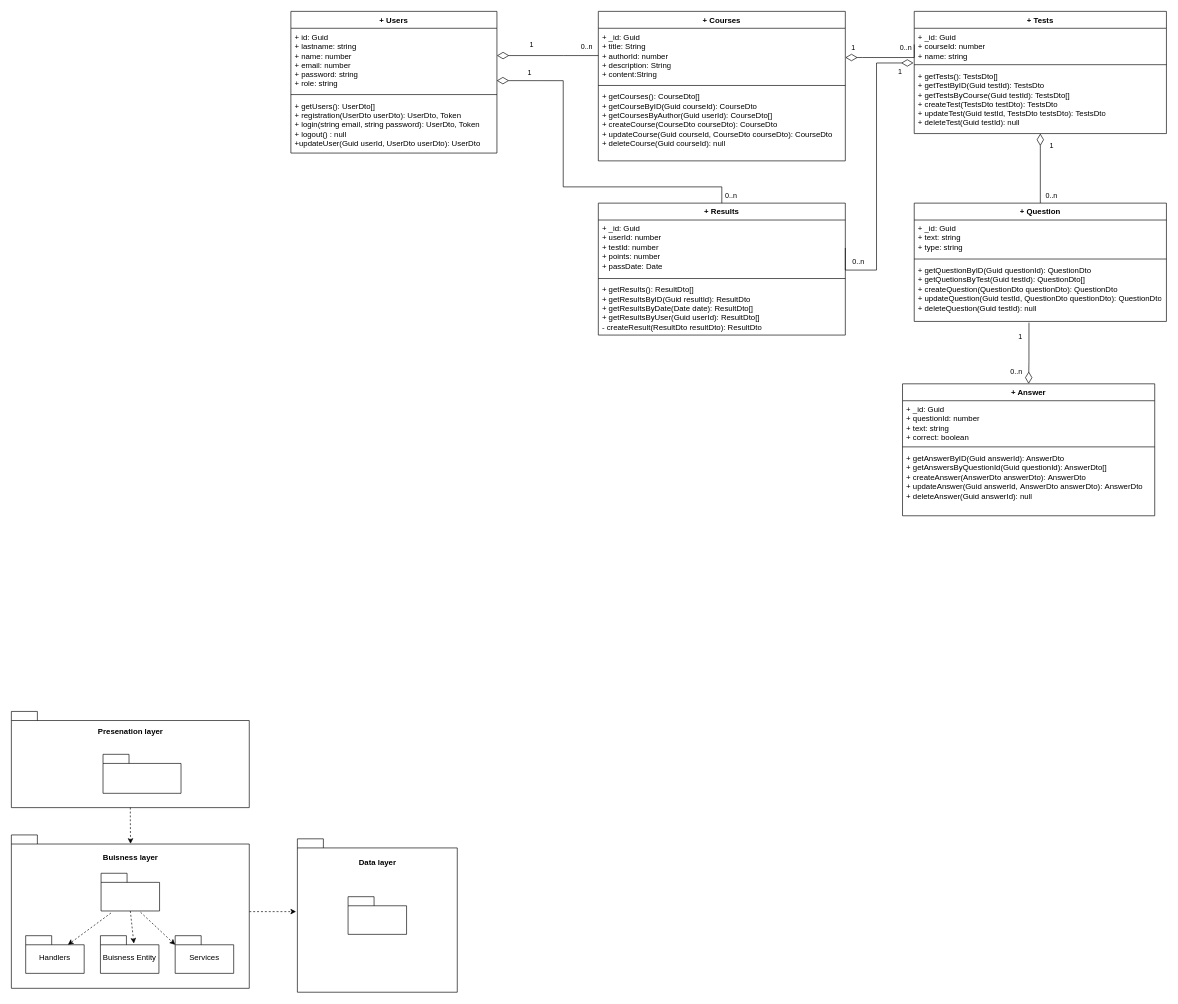
This 1178x1004 diagram has some shape labels left out. Here are the shapes that lost their labels. From the top down, the centre of each, then its label:
At point (141, 773): "User interface React.js".
At point (130, 892): "Application Node.js".
At point (377, 915): "Data access CDS models".
